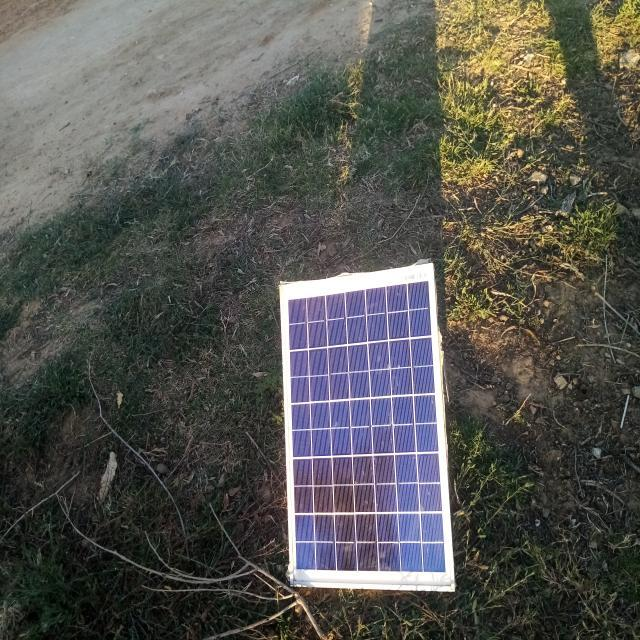no faulty: (280, 264, 455, 590)
